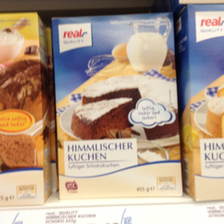cake: (50, 11, 191, 199), (1, 10, 46, 204)
